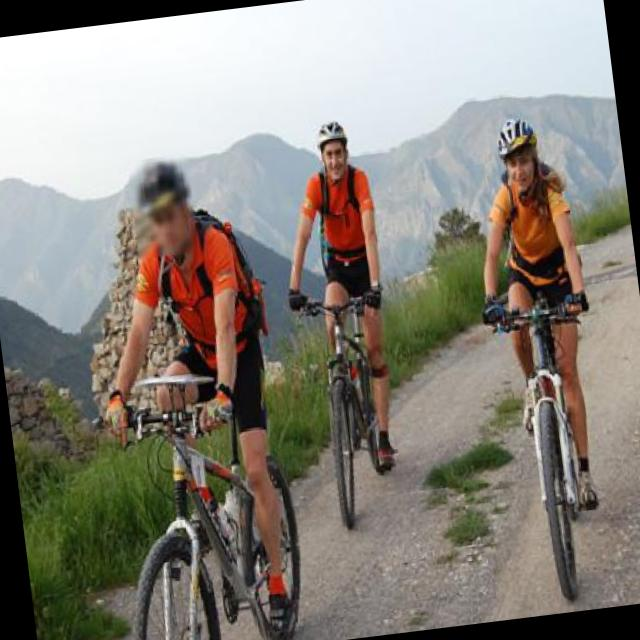With Helmet: (127, 153, 201, 260), (492, 110, 546, 202), (308, 116, 355, 182)
